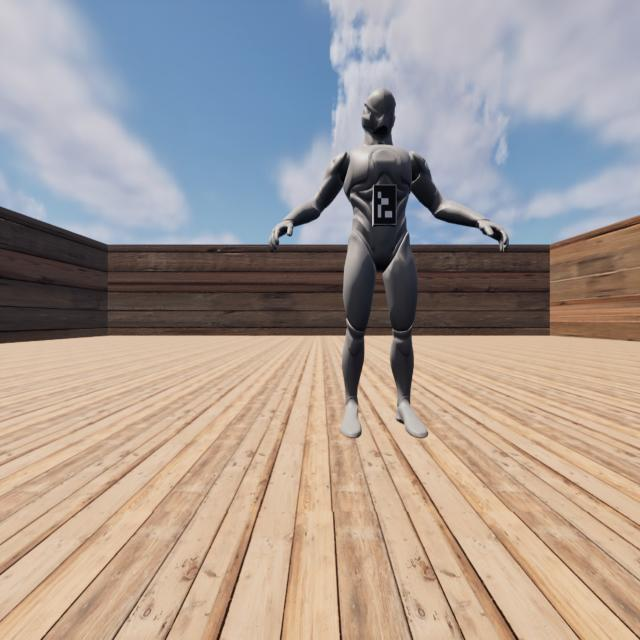aruco: (374, 185, 396, 224)
hip: (348, 232, 411, 246)
